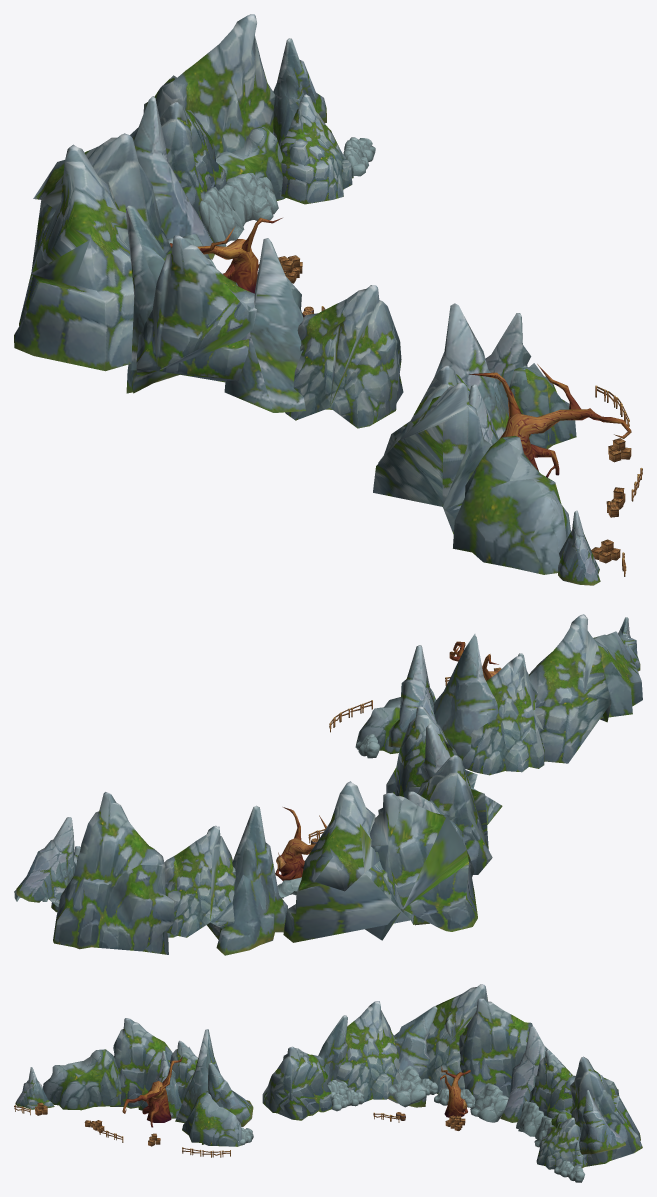
File: yanshi26_1.fbx
The picture shows the model from 3 angles, top to bottom: view 1: azimuth 30°, elevation 25°; view 2: azimuth 150°, elevation 25°; view 3: azimuth 270°, elevation 25°; orthographic projection. The views are drawn at different scales.
Visible parts, largest first — view 1: yanshi26_1; view 2: yanshi26_1; view 3: yanshi26_1.
Boxes of the visible parts, x1,y1,x2,y2 form: yanshi26_1: [14, 14, 642, 585]; yanshi26_1: [14, 614, 642, 955]; yanshi26_1: [14, 984, 642, 1182].
Bounding box in the file's own units: 4493 × 1916 × 9282.
